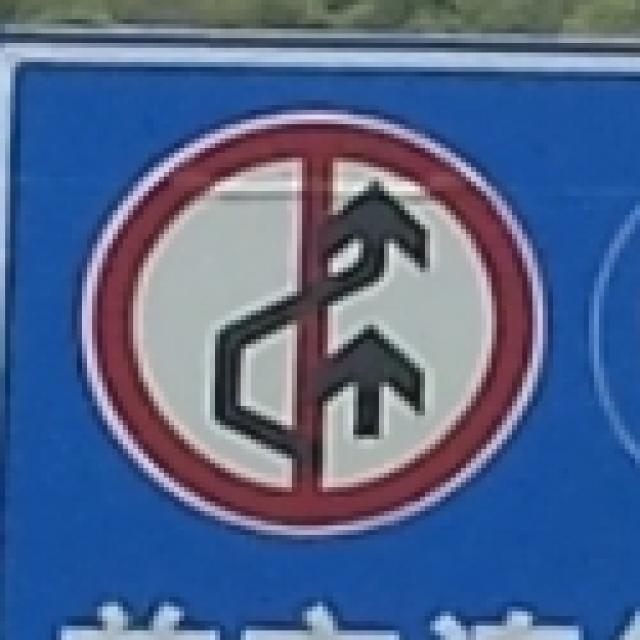Not that Direction: (88, 106, 556, 532)
